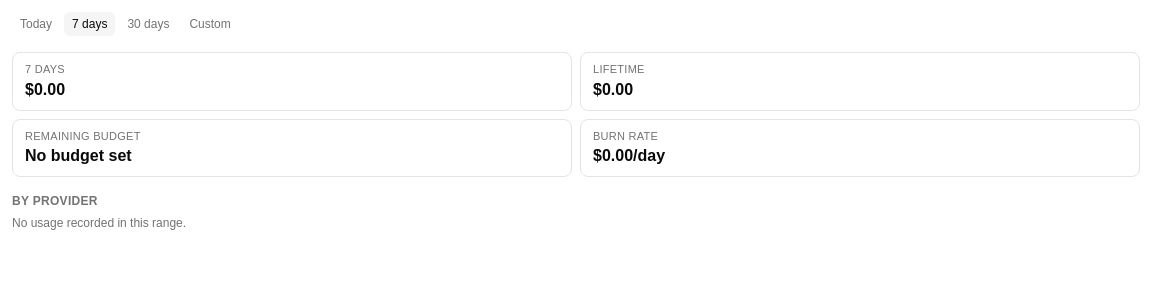
Test: SpendingPanel › reveals custom date inputs when the Custom filter is selected
The image size is (1152, 283).
Click the button "Custom": {"x": 210, "y": 24} [181,12,239,36]
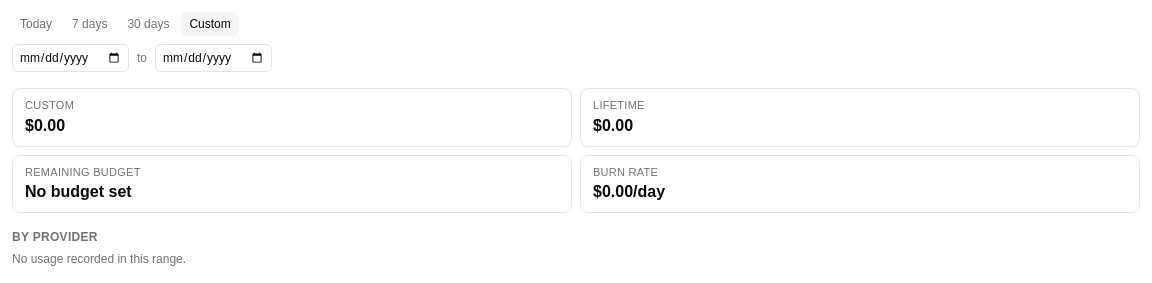
expect the date field named "Custom range start" is shown: met, box [12,44,129,72]
expect the date field named "Custom range end" is shown: met, box [155,44,272,72]
